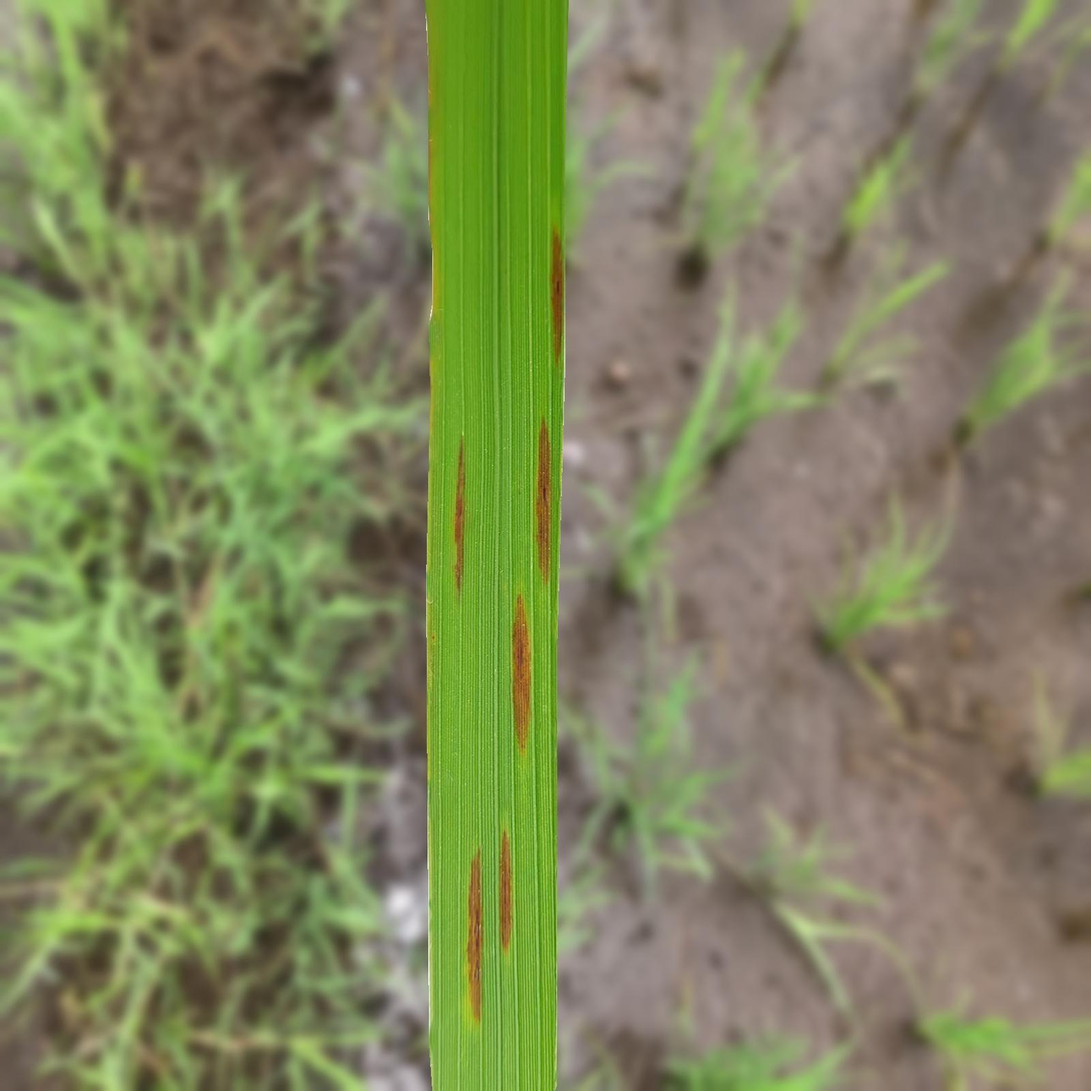LEAF: (425, 0, 568, 1090)
NBS: (466, 850, 483, 1023), (512, 595, 530, 752), (535, 406, 551, 571), (535, 417, 551, 580), (550, 228, 564, 360), (454, 439, 464, 591), (500, 830, 512, 951)
